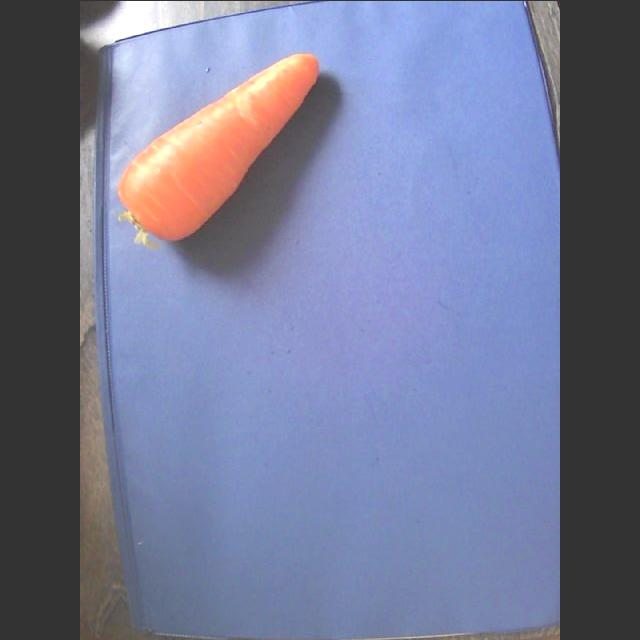zanahoria: (117, 54, 319, 247)
